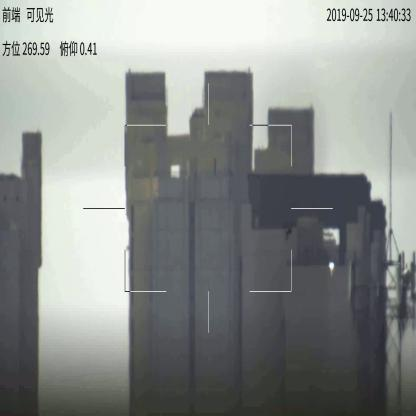uav: (282, 220, 296, 240)
